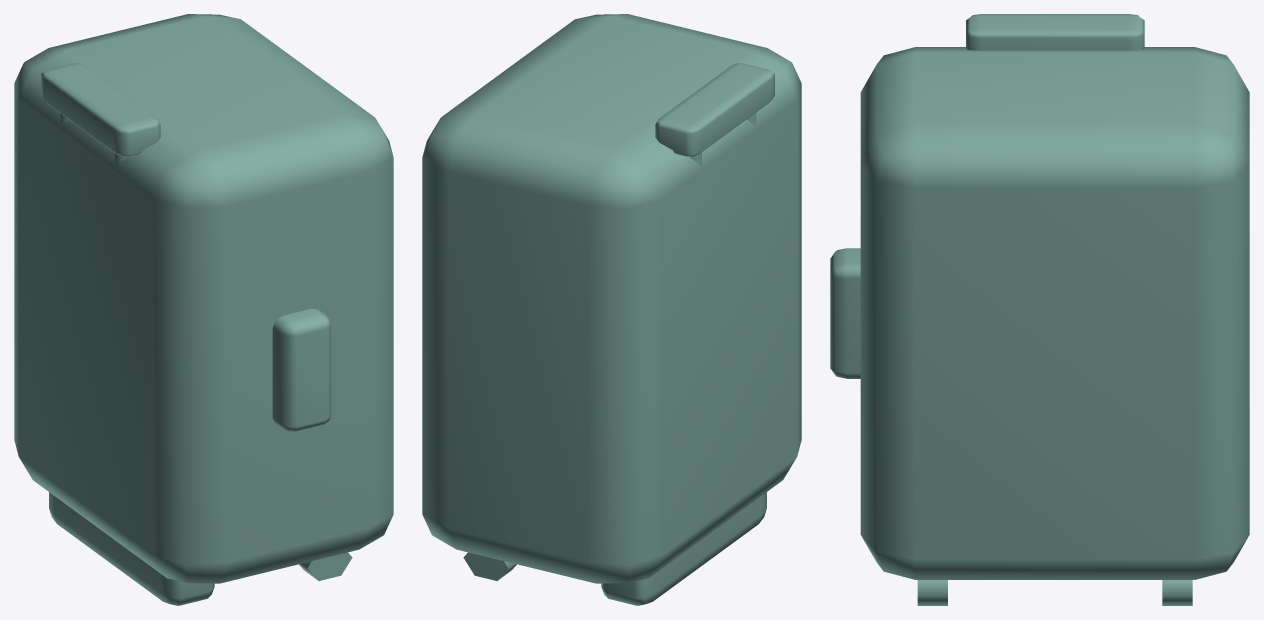
Rendered from ATLAS_PR_LUGGAGE_C.fbx.
The picture shows the model from 3 angles, left to right: view 1: azimuth 30°, elevation 25°; view 2: azimuth 150°, elevation 25°; view 3: azimuth 270°, elevation 25°; orthographic projection. The views are drawn at different scales.
Visible parts, largest first — view 1: PR_LUGGAGE_C; view 2: PR_LUGGAGE_C; view 3: PR_LUGGAGE_C.
Part boxes in pixels (x1,y1,x2,y2): PR_LUGGAGE_C: [14, 14, 393, 605]; PR_LUGGAGE_C: [422, 14, 801, 605]; PR_LUGGAGE_C: [830, 14, 1249, 605].
Bounding box in the file's own units: 60.33 × 113 × 86.58.
